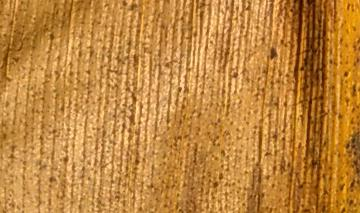tarspot: (1, 41, 12, 81), (293, 172, 307, 190), (174, 86, 183, 108), (47, 32, 55, 54), (351, 156, 360, 174), (269, 45, 279, 61), (350, 79, 358, 99), (132, 53, 139, 72), (127, 1, 139, 12), (232, 64, 240, 80), (48, 174, 58, 184), (61, 153, 71, 163), (102, 2, 112, 12), (244, 1, 253, 12), (336, 111, 345, 120), (338, 182, 346, 192), (309, 159, 317, 169), (349, 178, 356, 189), (342, 69, 350, 78), (84, 68, 92, 77), (207, 38, 215, 47), (306, 1, 316, 8), (320, 203, 327, 213), (347, 199, 354, 208), (212, 180, 219, 189), (322, 188, 329, 197), (301, 208, 312, 213), (4, 100, 10, 109), (299, 64, 305, 73), (340, 206, 347, 213), (1, 32, 8, 39), (344, 142, 350, 150), (349, 144, 357, 150), (31, 15, 37, 23), (121, 1, 128, 7), (350, 137, 356, 144), (199, 88, 205, 95), (288, 7, 294, 13), (292, 1, 298, 7), (352, 149, 357, 156)
